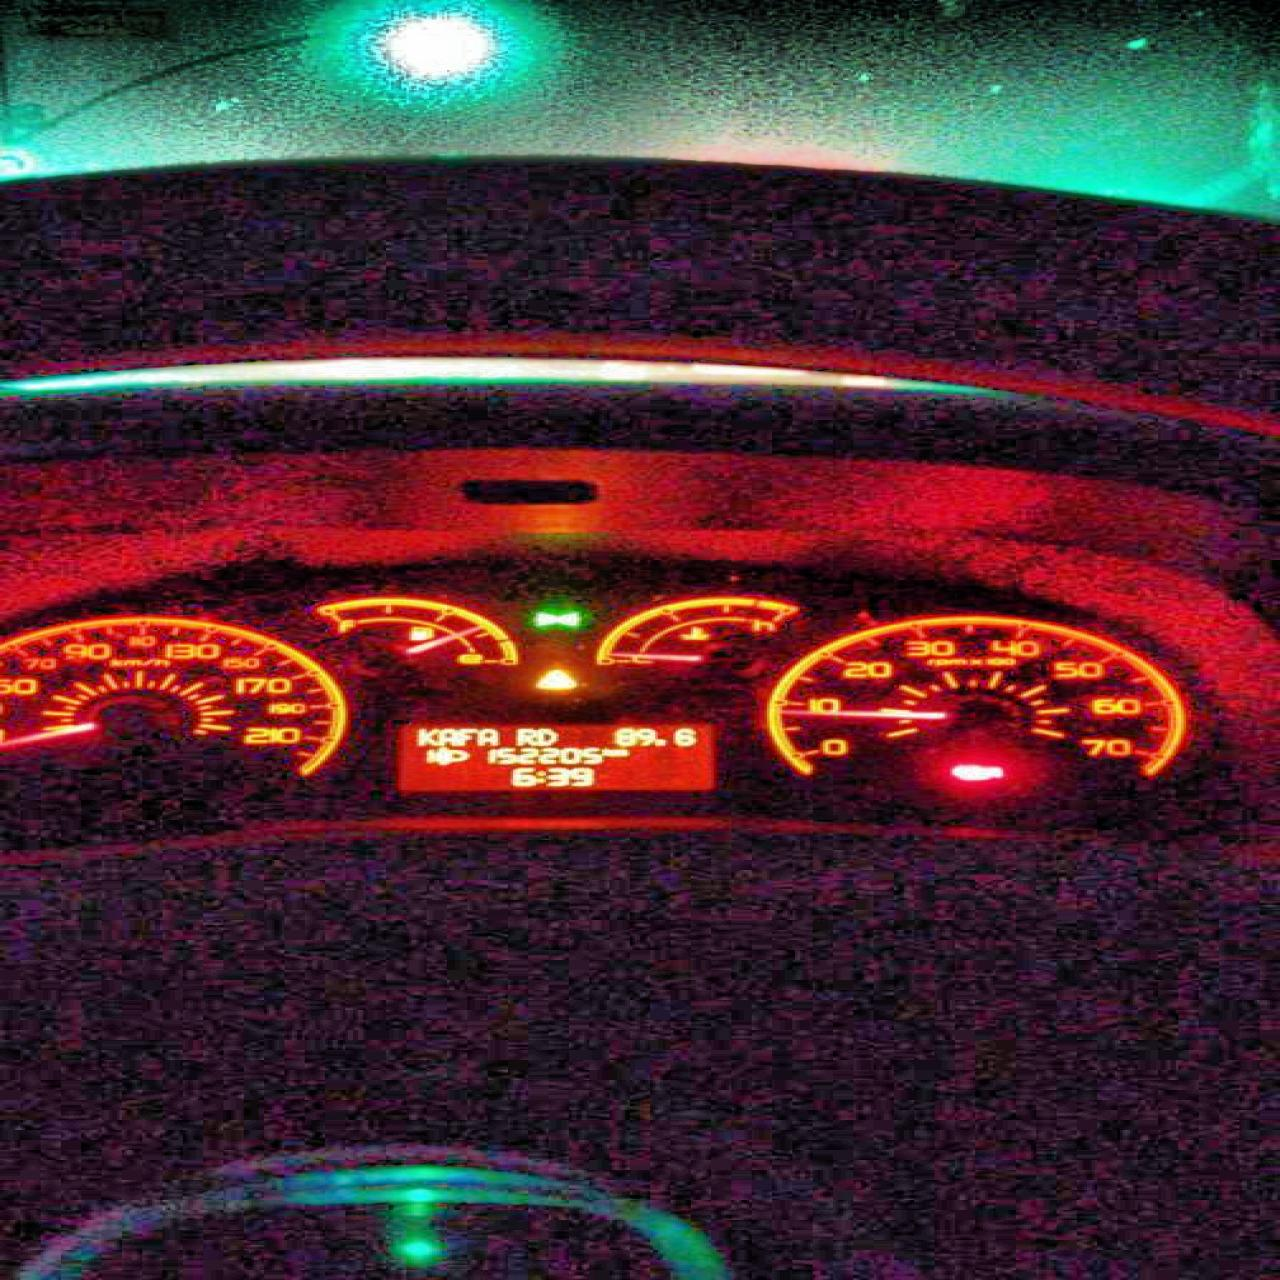-: (653, 737, 668, 747)
0: (559, 747, 579, 764)
1: (483, 747, 496, 764), (422, 748, 431, 767)
2: (513, 747, 536, 764), (538, 745, 557, 764)
3: (546, 765, 568, 787)
5: (495, 745, 513, 764), (581, 745, 599, 764)
6: (505, 764, 536, 788), (670, 726, 696, 745)
8: (612, 728, 635, 747)
9: (568, 765, 592, 787), (635, 726, 653, 745)
X: (475, 726, 498, 745), (536, 726, 557, 745), (414, 726, 434, 745), (455, 726, 475, 745), (516, 726, 536, 745), (436, 726, 455, 745), (533, 769, 544, 783)
odometer: (396, 721, 719, 791)
